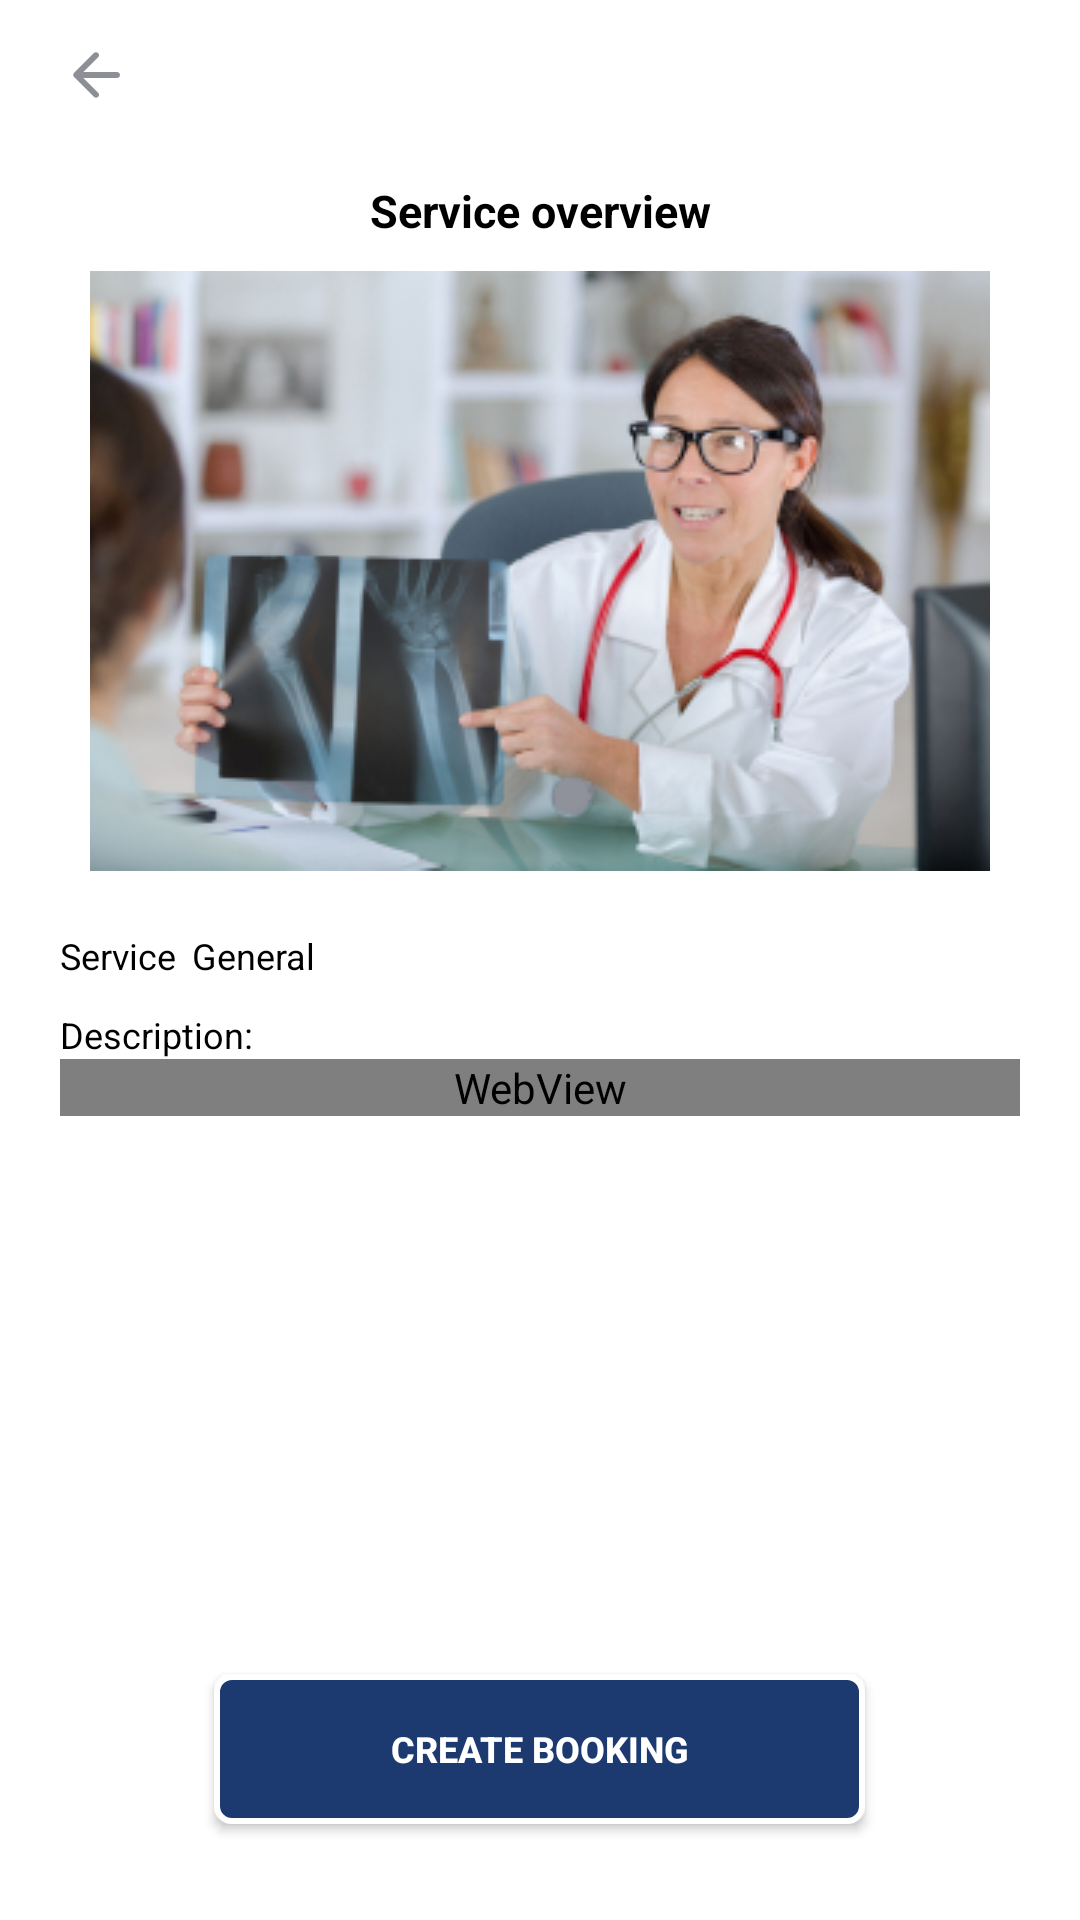

Locate icon controls on the screen. Image size 1080 × 1920, boxes as detection(x1, y1, x2, y2).
arrow back: detection(73, 52, 120, 98)
